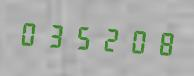eight: (148, 23, 173, 61)
five: (70, 18, 95, 55)
three: (43, 16, 68, 53)
two: (96, 19, 121, 57)
zero: (17, 14, 42, 52), (122, 21, 147, 59)
